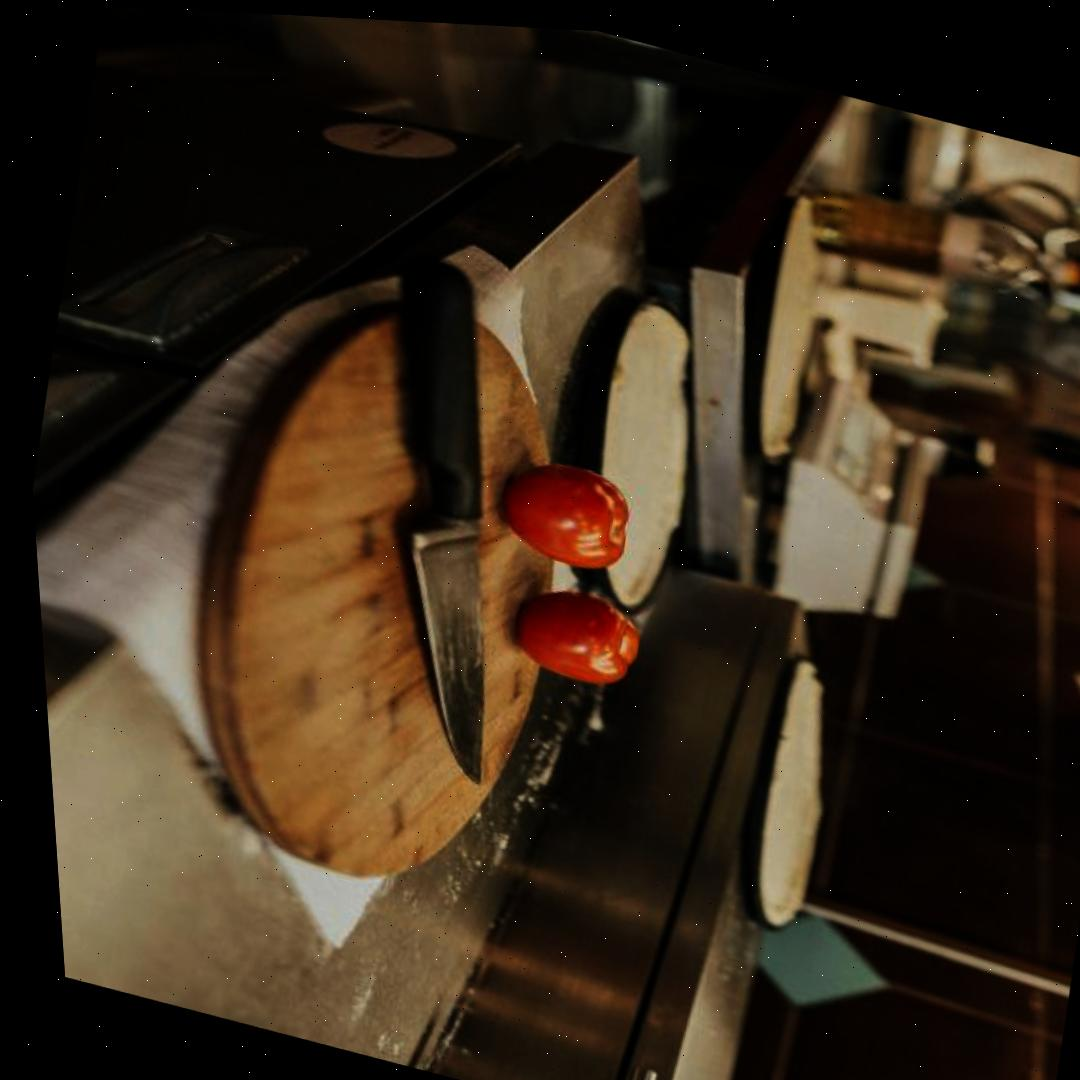matang: (488, 448, 639, 578), (502, 575, 650, 696)
